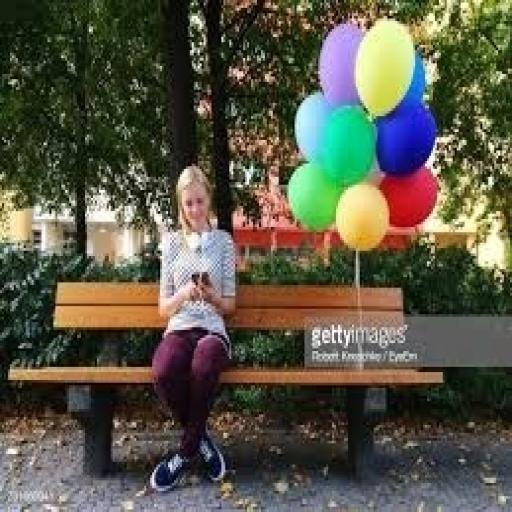sitting: (146, 161, 239, 491)
